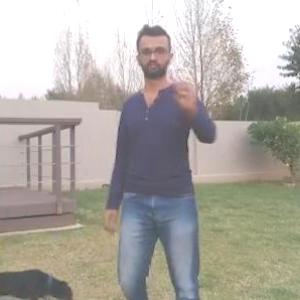takeoff-hand: (172, 64, 208, 114)
